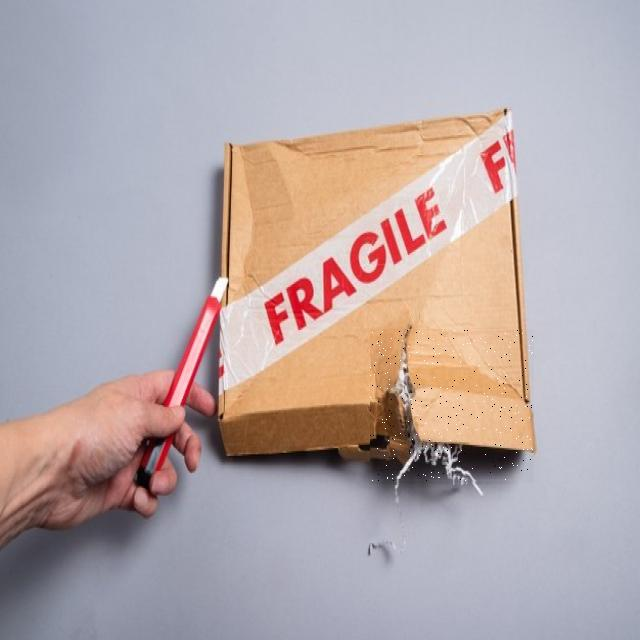tear: (371, 330, 534, 481)
